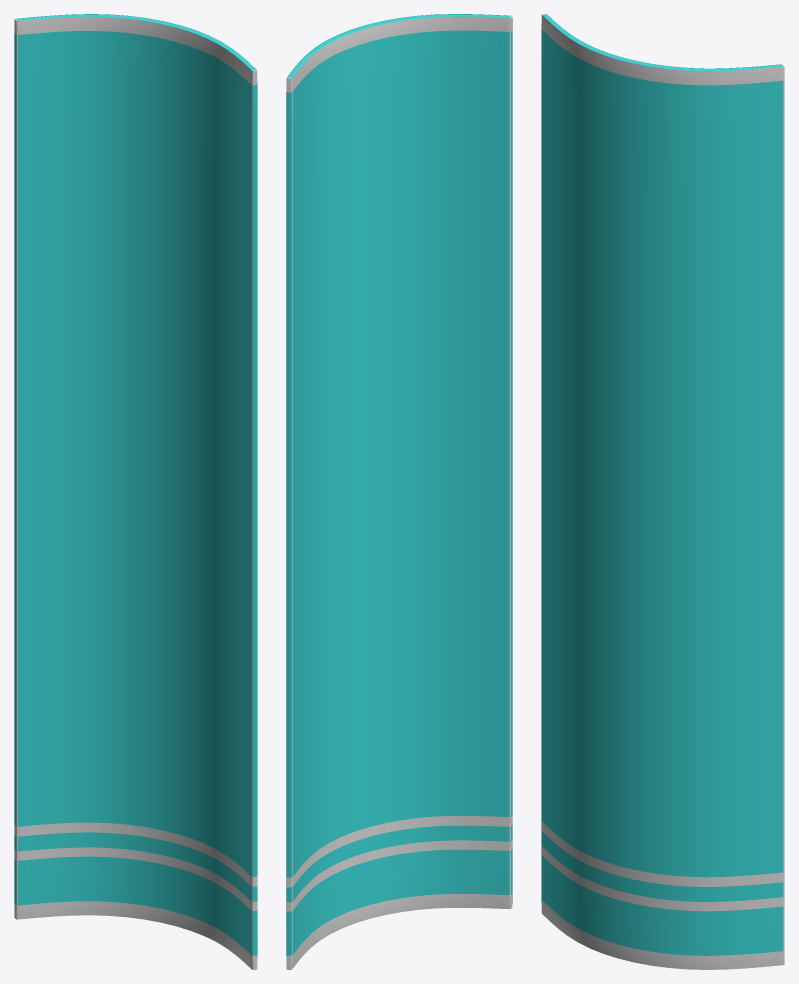
Rendered from PuertaH.glb.
3 renders of one model, left to right at view 1: azimuth 90°, elevation 25°; view 2: azimuth 150°, elevation 25°; view 3: azimuth 270°, elevation 25°, orthographic.
Parts seen in each view (by area): view 1: D_ascensor_puerta1; view 2: D_ascensor_puerta1; view 3: D_ascensor_puerta1.
Part boxes in pixels (left/top/right/bottom): D_ascensor_puerta1: left=14, top=14, right=257, bottom=969; D_ascensor_puerta1: left=286, top=14, right=512, bottom=969; D_ascensor_puerta1: left=541, top=14, right=784, bottom=969.
Size of the model in its own units: 0.0264 by 0.1925 by 0.0472.
